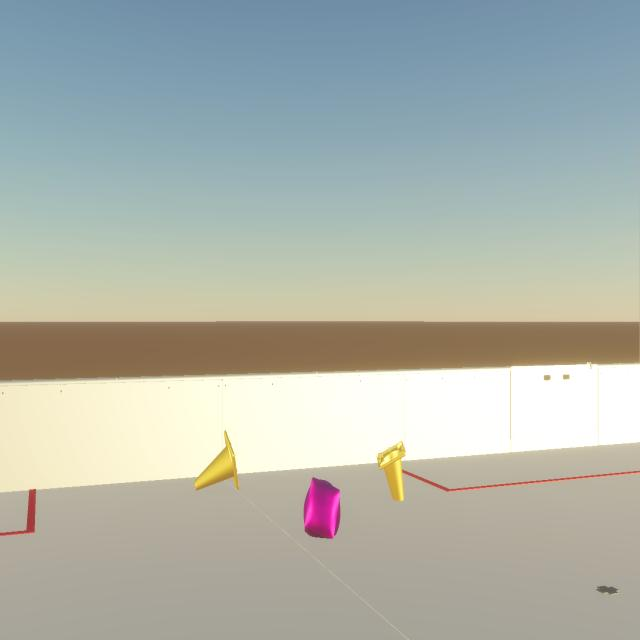frc_cone: (194, 430, 239, 491), (377, 441, 406, 501)
frc_cube: (304, 477, 340, 539)
